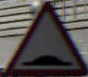Speed Breaker ahead: (12, 9, 77, 69)
